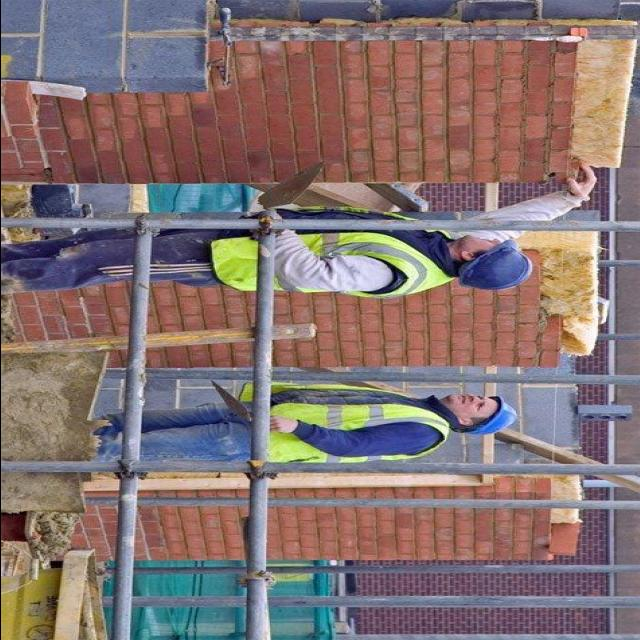helmet: (460, 234, 532, 296), (478, 392, 516, 439)
